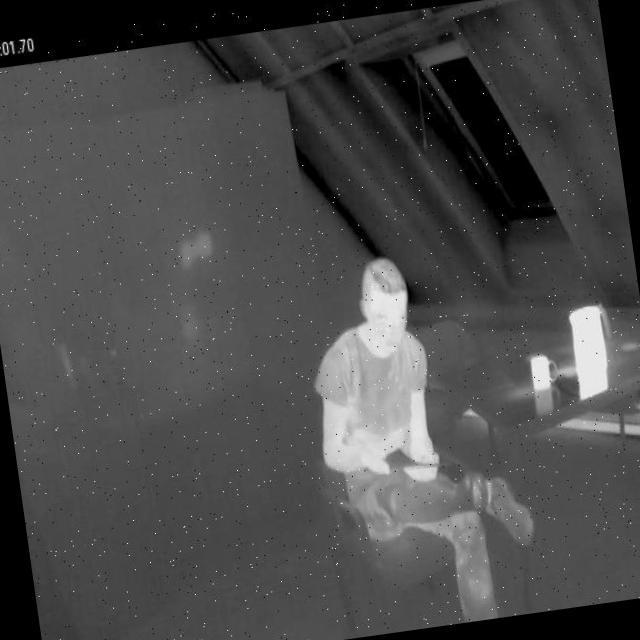person: (294, 240, 546, 640), (587, 28, 640, 594)
